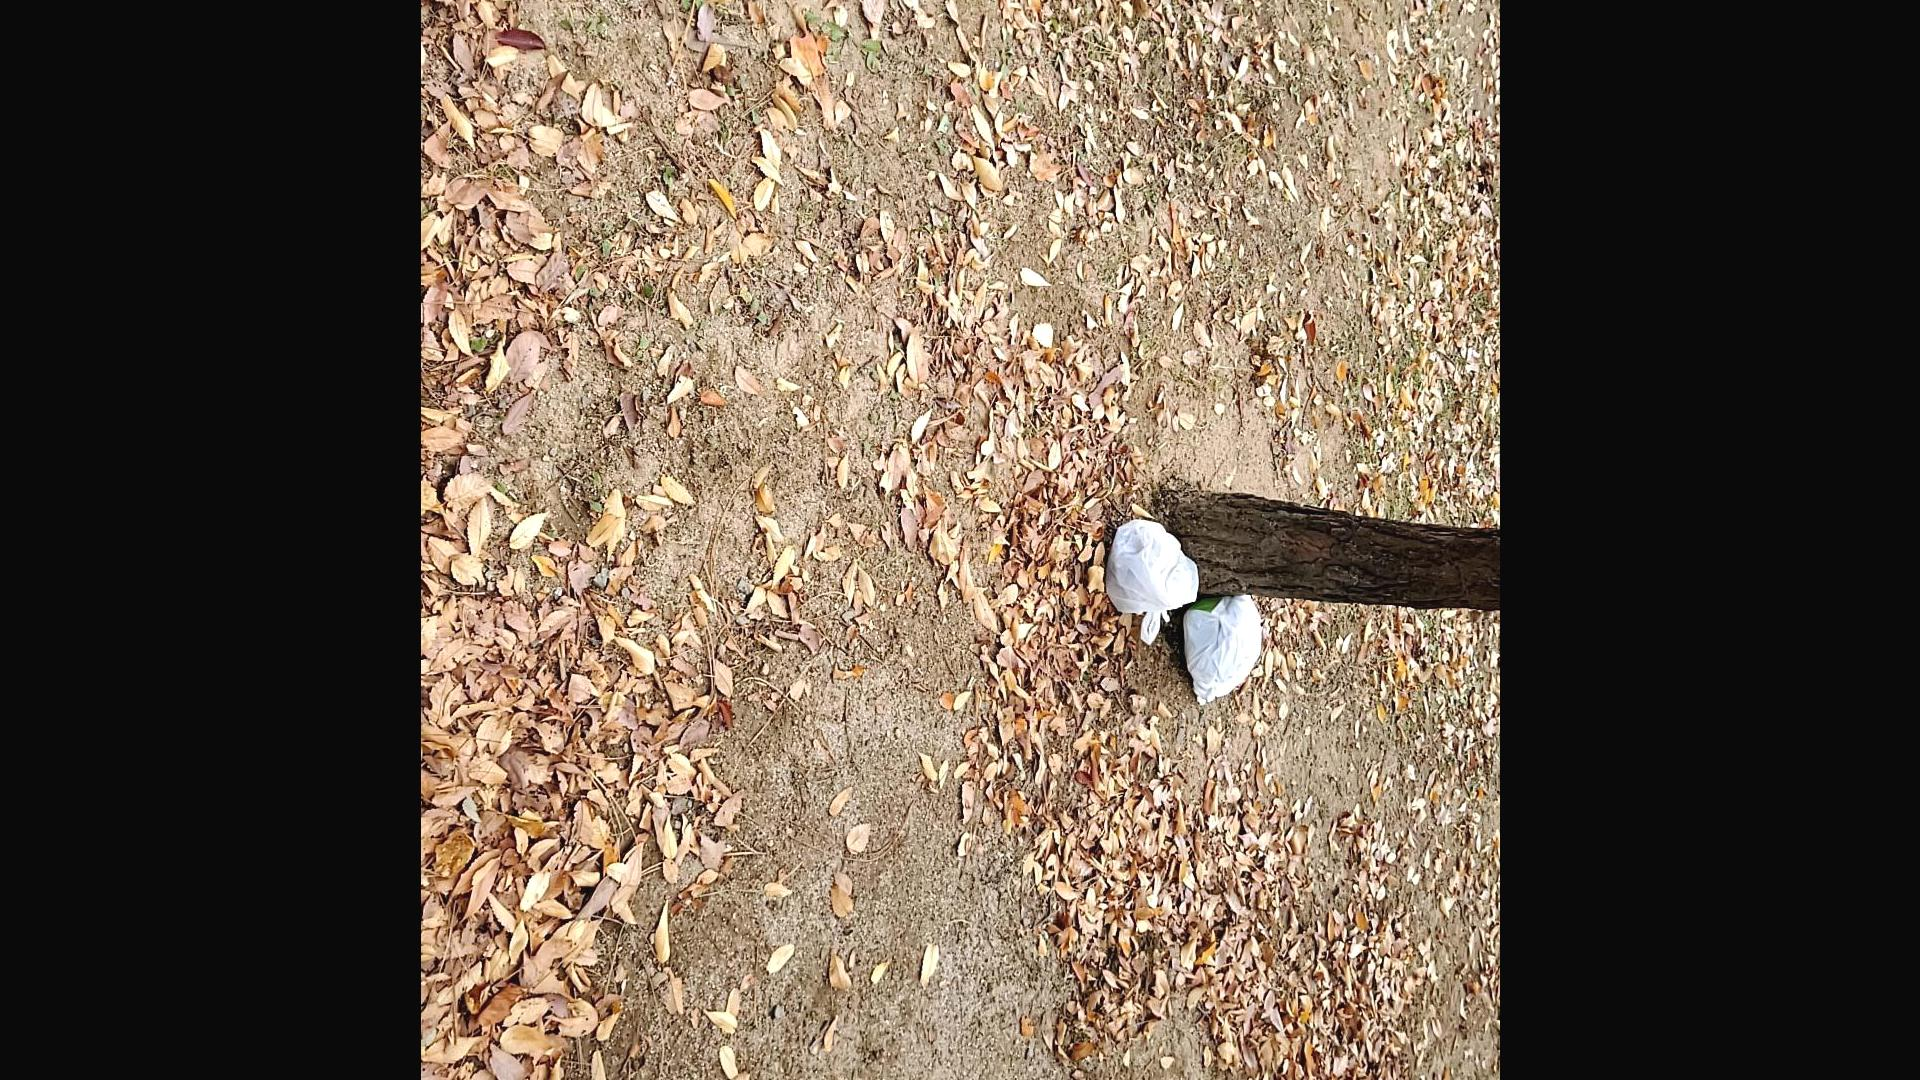white_bag: (1098, 509, 1200, 644), (1175, 583, 1265, 712)
